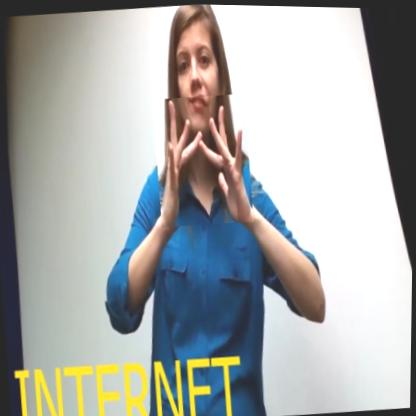Internet: (151, 91, 256, 228)
